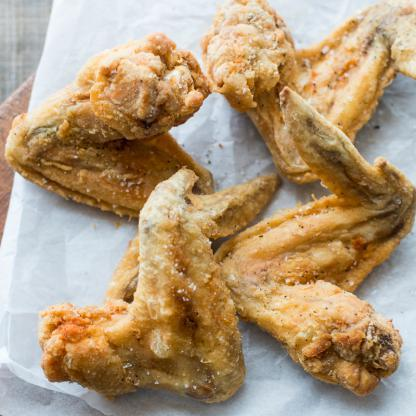ayam_goreng: (214, 92, 412, 392), (0, 31, 282, 230), (38, 166, 251, 404), (202, 0, 415, 182)
